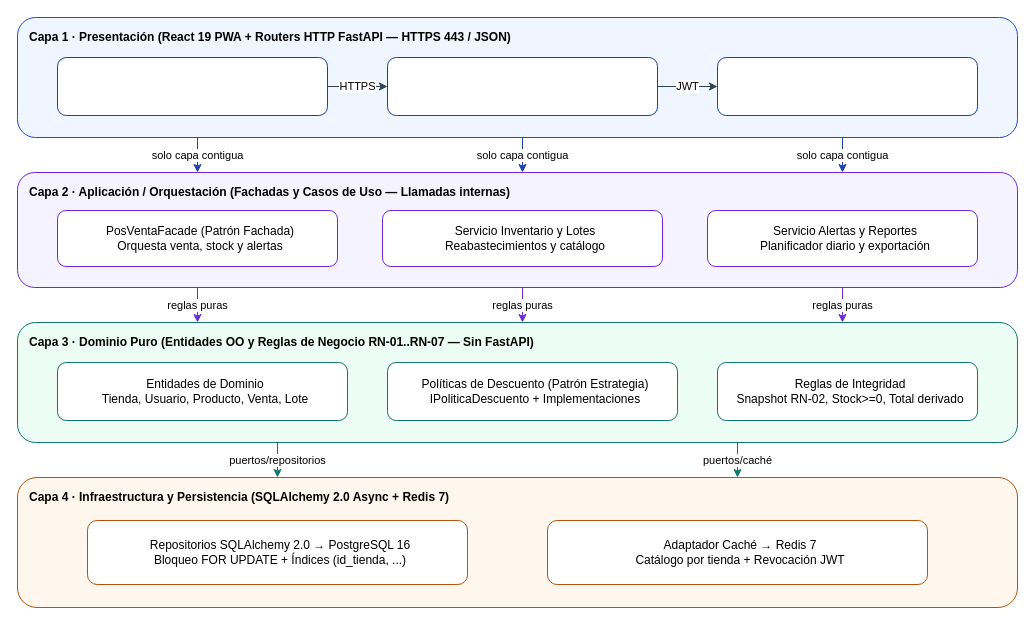
The diagram is 1035 pixels wide and 625 high, and some of its shapes have lost their labels. Here are the shapes that lost their labels. From the top down, the centre of each, then its label:
the point at 192,86: Vistas PWA (POS, Lotes, Dashboard) React 19 + Escáner Cámara
the point at 522,86: API REST (Routers FastAPI) Validación Pydantic + CORS
the point at 847,86: Middleware Auth JWT Inyección obligatoria id_tienda
